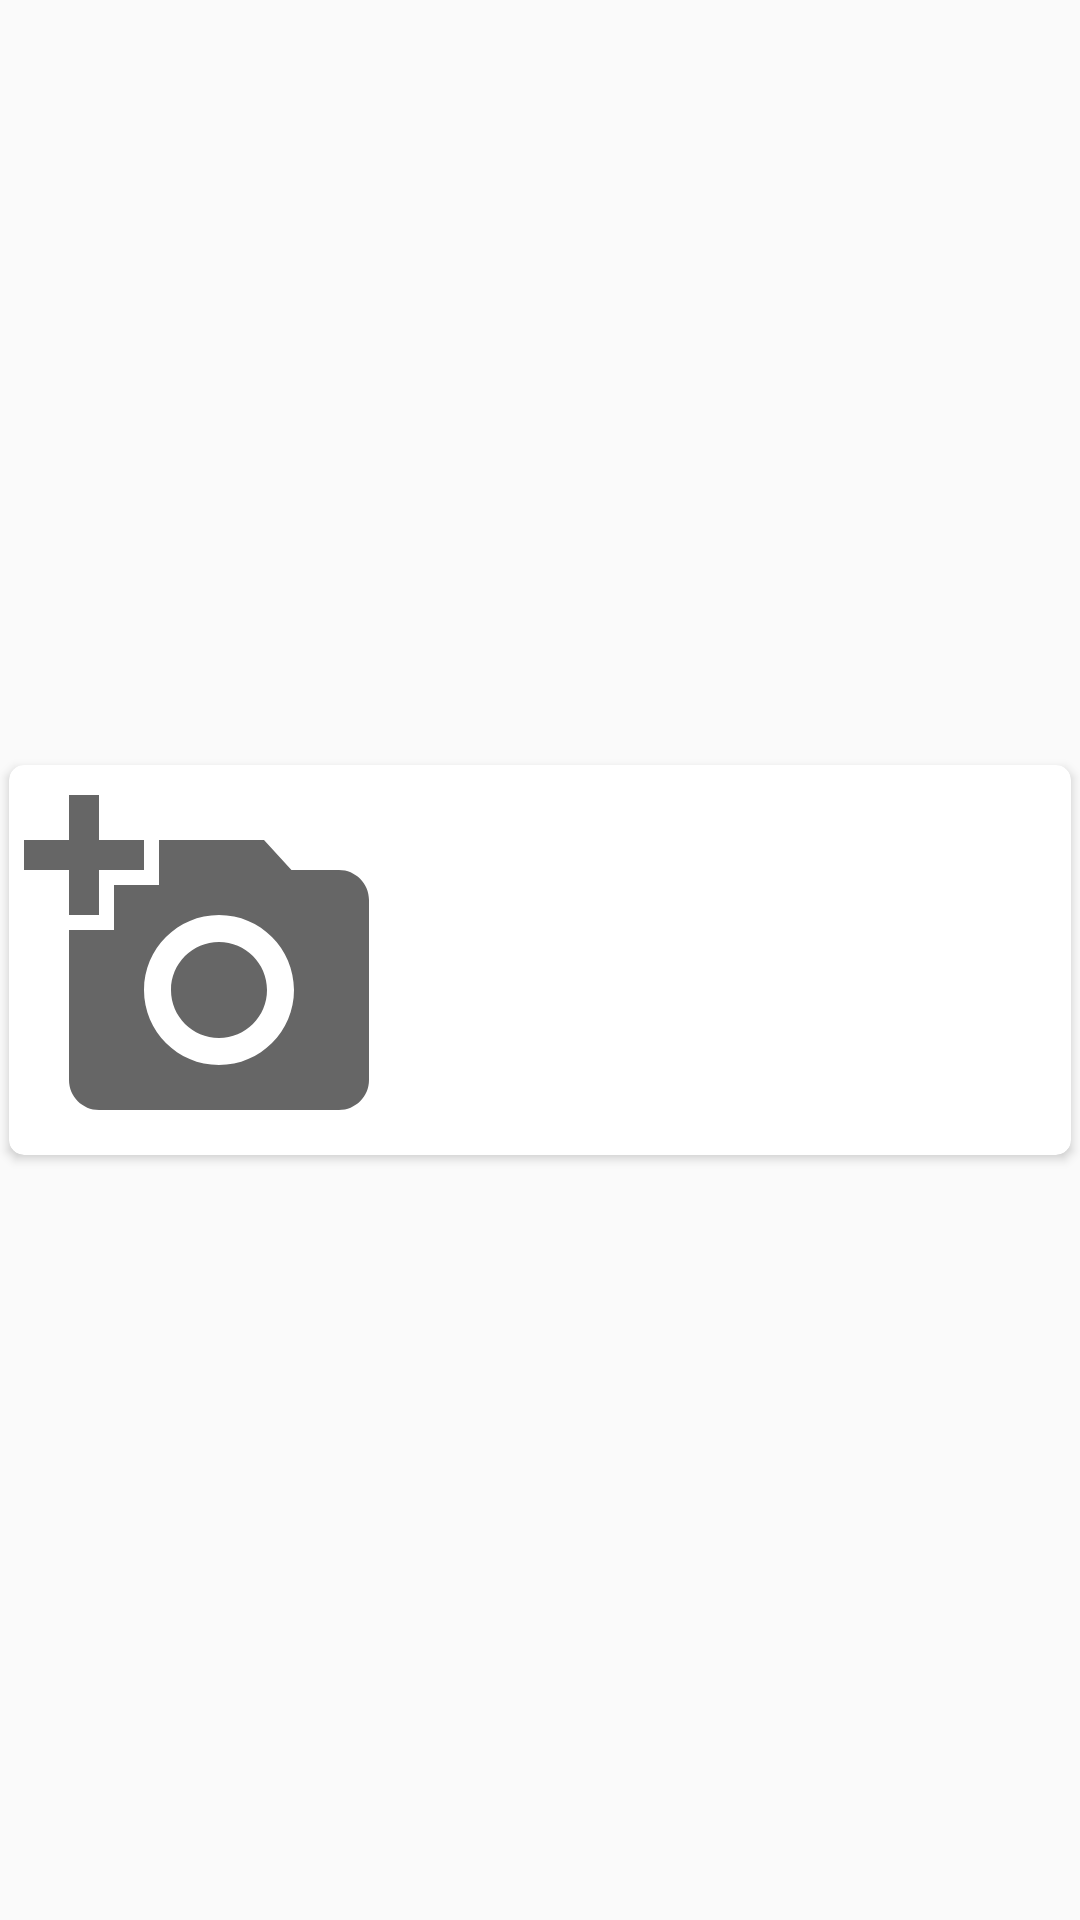

Named icons in this screenshot (1080×1920) and their centers, [x,y]:
photo: [196,952]
